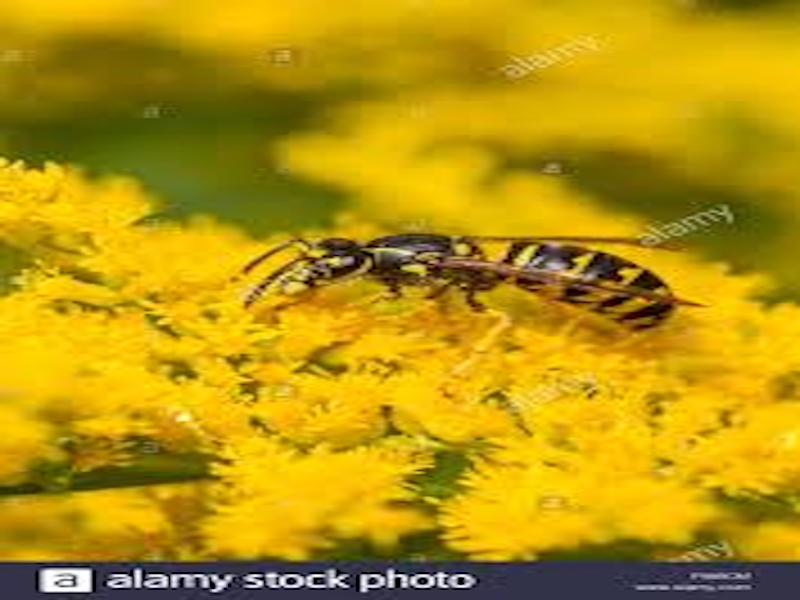chax: (236, 201, 724, 358)
